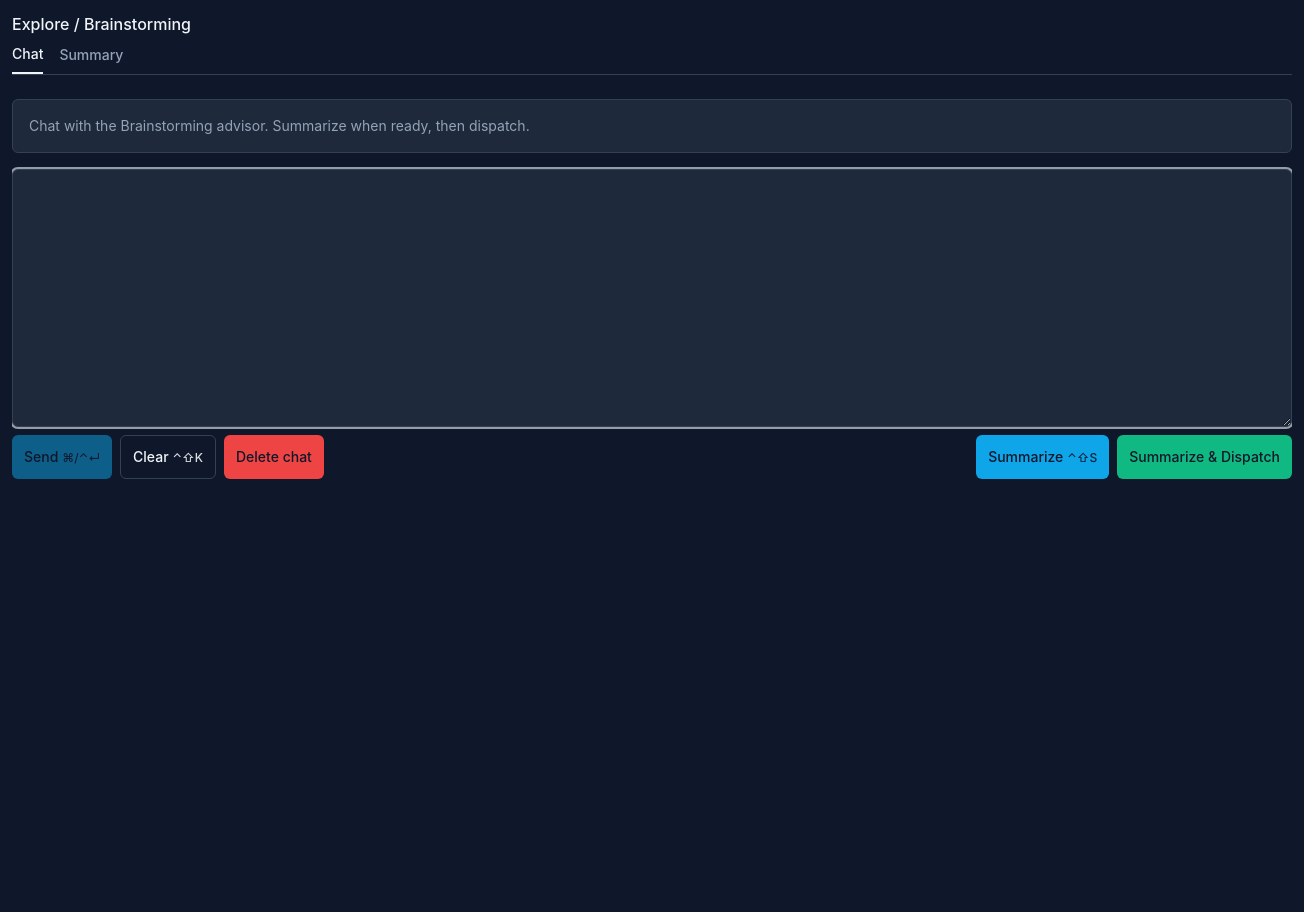
Test case: ExploreChat › Collision check trigger › does not error the Summary tab when the collision check fails
Click the button with test id "summarize-button": (1043, 457) [976,435,1109,479]
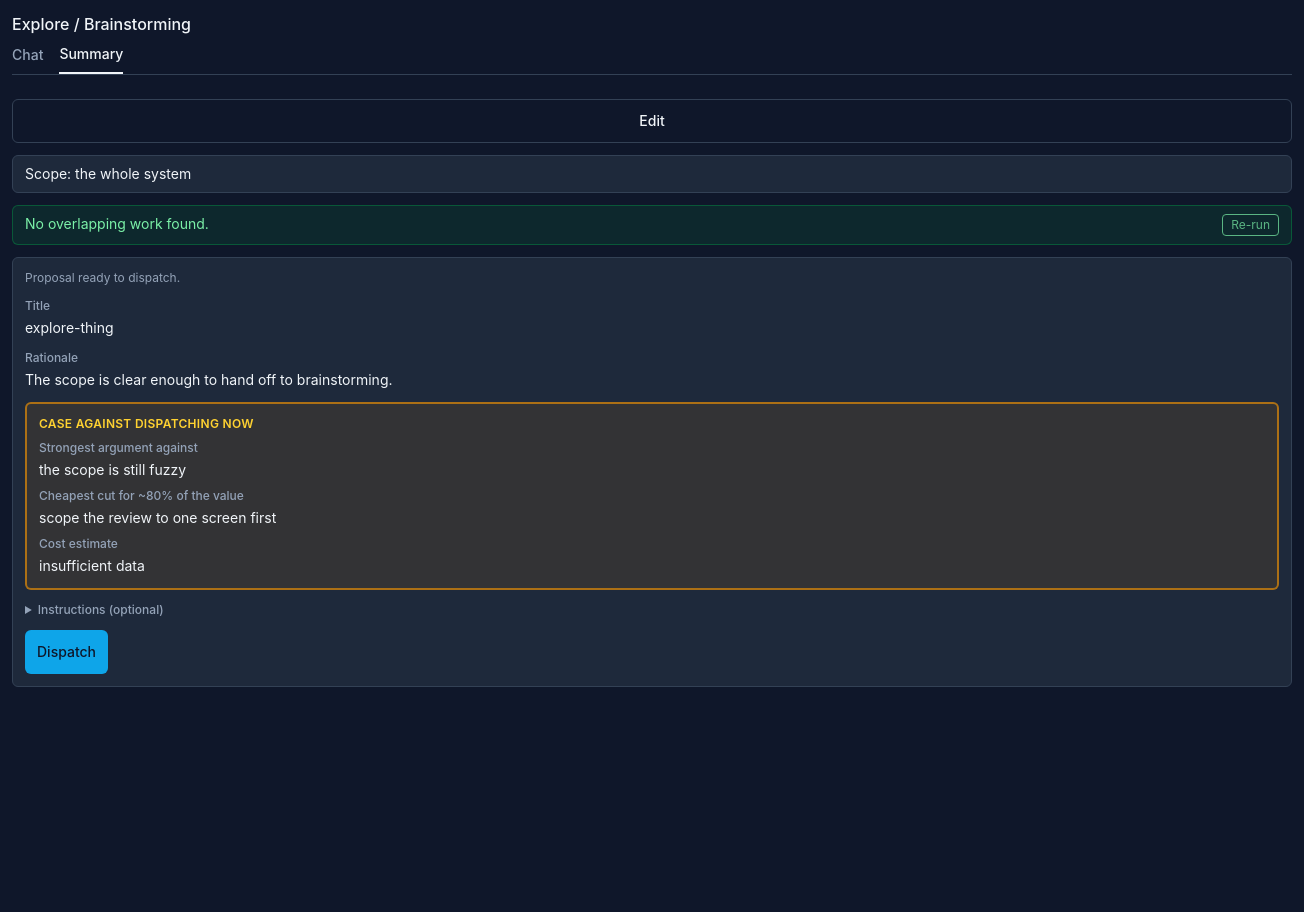
Result: the element with test id "summary-preview" reads "Scope: the whole system" at [25,165,191,182]
Result: the element with test id "collision-box" is shown at [12,205,1292,245]
